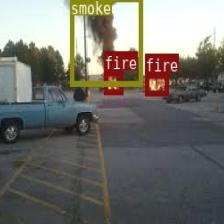fire: (144, 72, 168, 95), (103, 70, 122, 94)
smoke: (69, 0, 142, 86)
